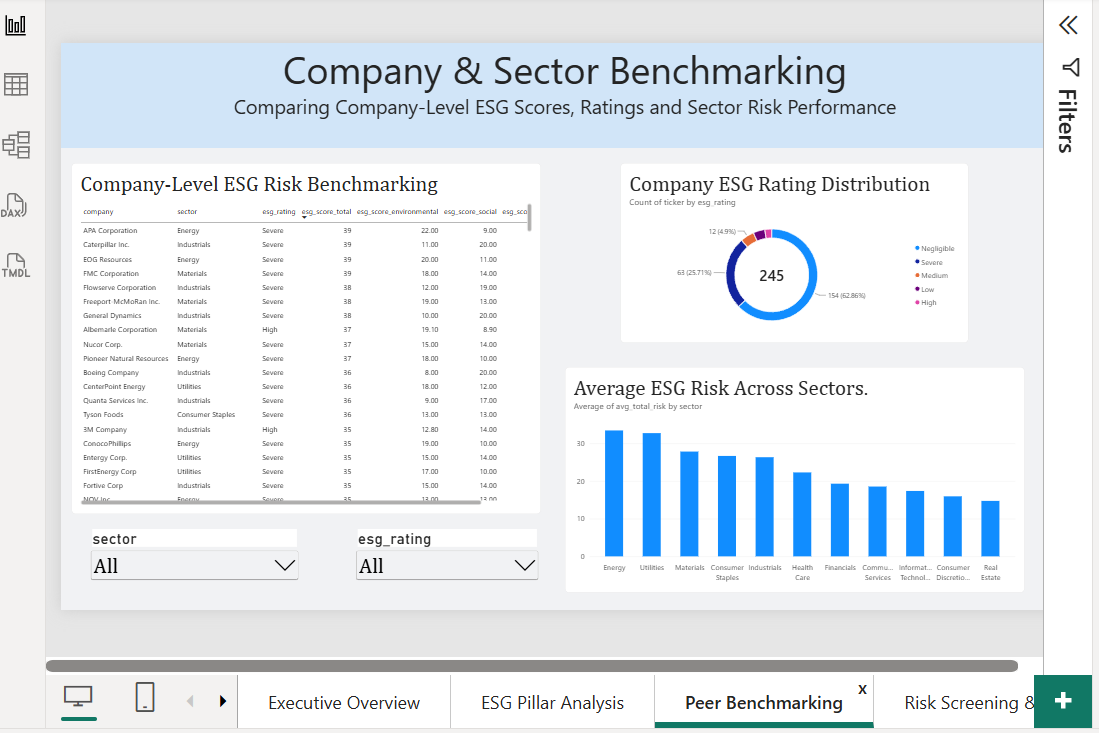

Layout of this report page (visuals, bound fields, positions):
{"tool":"powerbi","page":{"name":"Peer Benchmarking","canvas":[1920,1080],"ordinal":2},"visuals":[{"type":"tableEx","title":"Company-Level ESG Risk Benchmarking","fields":{"Values":["esg_company_data.company","esg_company_data.sector","esg_company_data.esg_rating","esg_company_data.esg_score_total","esg_company_data.esg_score_environmental","esg_company_data.esg_score_social","esg_company_data.esg_score_governance"]},"box":[20,228.6,894.3,668.6],"z":0},{"type":"clusteredColumnChart","title":"Average ESG Risk Across Sectors.","fields":{"Category":["sector_esg_risk.sector"],"Y":["Avg(sector_esg_risk.avg_total_risk)"]},"box":[960,617.1,875,430],"z":1000},{"type":"donutChart","title":"Company ESG Rating Distribution","fields":{"Category":["esg_company_data.esg_rating"],"Y":["CountNonNull(esg_company_data.ticker)"]},"box":[1065.7,228.6,662.9,342.9],"z":2000},{"type":"slicer","fields":{"Values":["esg_company_data.sector"]},"box":[51.4,925.7,405.7,97.1],"z":3000},{"type":"slicer","fields":{"Values":["esg_company_data.esg_rating"]},"box":[557.1,925.7,357.1,97.1],"z":4000},{"type":"textbox","box":[0,0,1920,200],"z":5000}]}

Visuals, with their boxes on the page's 1920x1080 design canvas (x1, y1, x2, y2). These are canvas units, not pixel positions in the 1099x733 screenshot, which may show the page scaled, cropped or inside an application window:
"Company-Level ESG Risk Benchmarking" tableEx: (x1=20, y1=229, x2=914, y2=897)
"Average ESG Risk Across Sectors." clusteredColumnChart: (x1=960, y1=617, x2=1835, y2=1047)
"Company ESG Rating Distribution" donutChart: (x1=1066, y1=229, x2=1729, y2=572)
slicer - esg_company_data.sector: (x1=51, y1=926, x2=457, y2=1023)
slicer - esg_company_data.esg_rating: (x1=557, y1=926, x2=914, y2=1023)
textbox: (x1=0, y1=0, x2=1920, y2=200)
